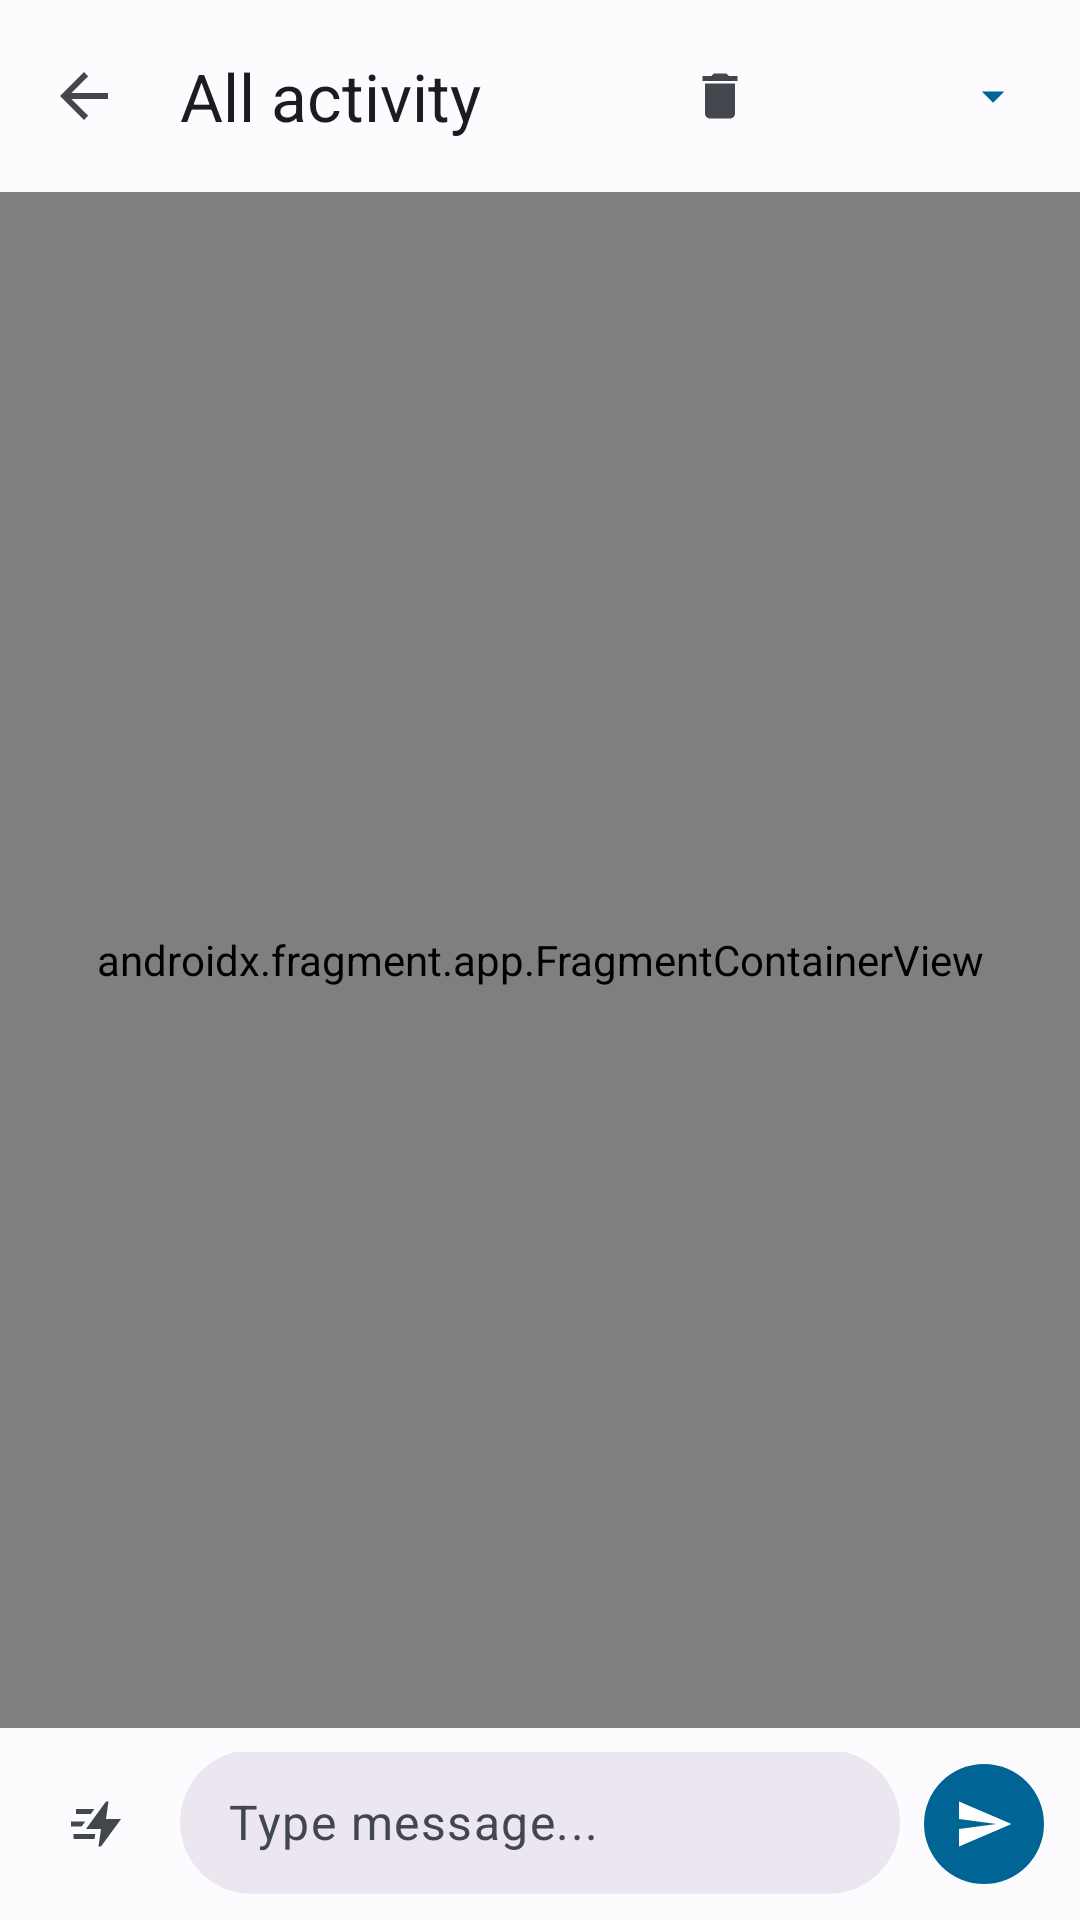

Icon bounding boxes for this 1080px x 1920px phone screenshot, format [x1=x1, y1=y1, x2=x2, y2=y2]:
Clear: [x1=702, y1=73, x2=738, y2=119]
Commands: [x1=71, y1=1801, x2=121, y2=1847]
Send: [x1=924, y1=1764, x2=1044, y2=1884]
